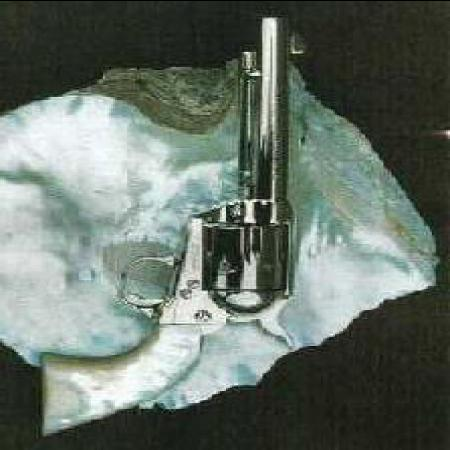Pistol: (46, 16, 308, 444)
